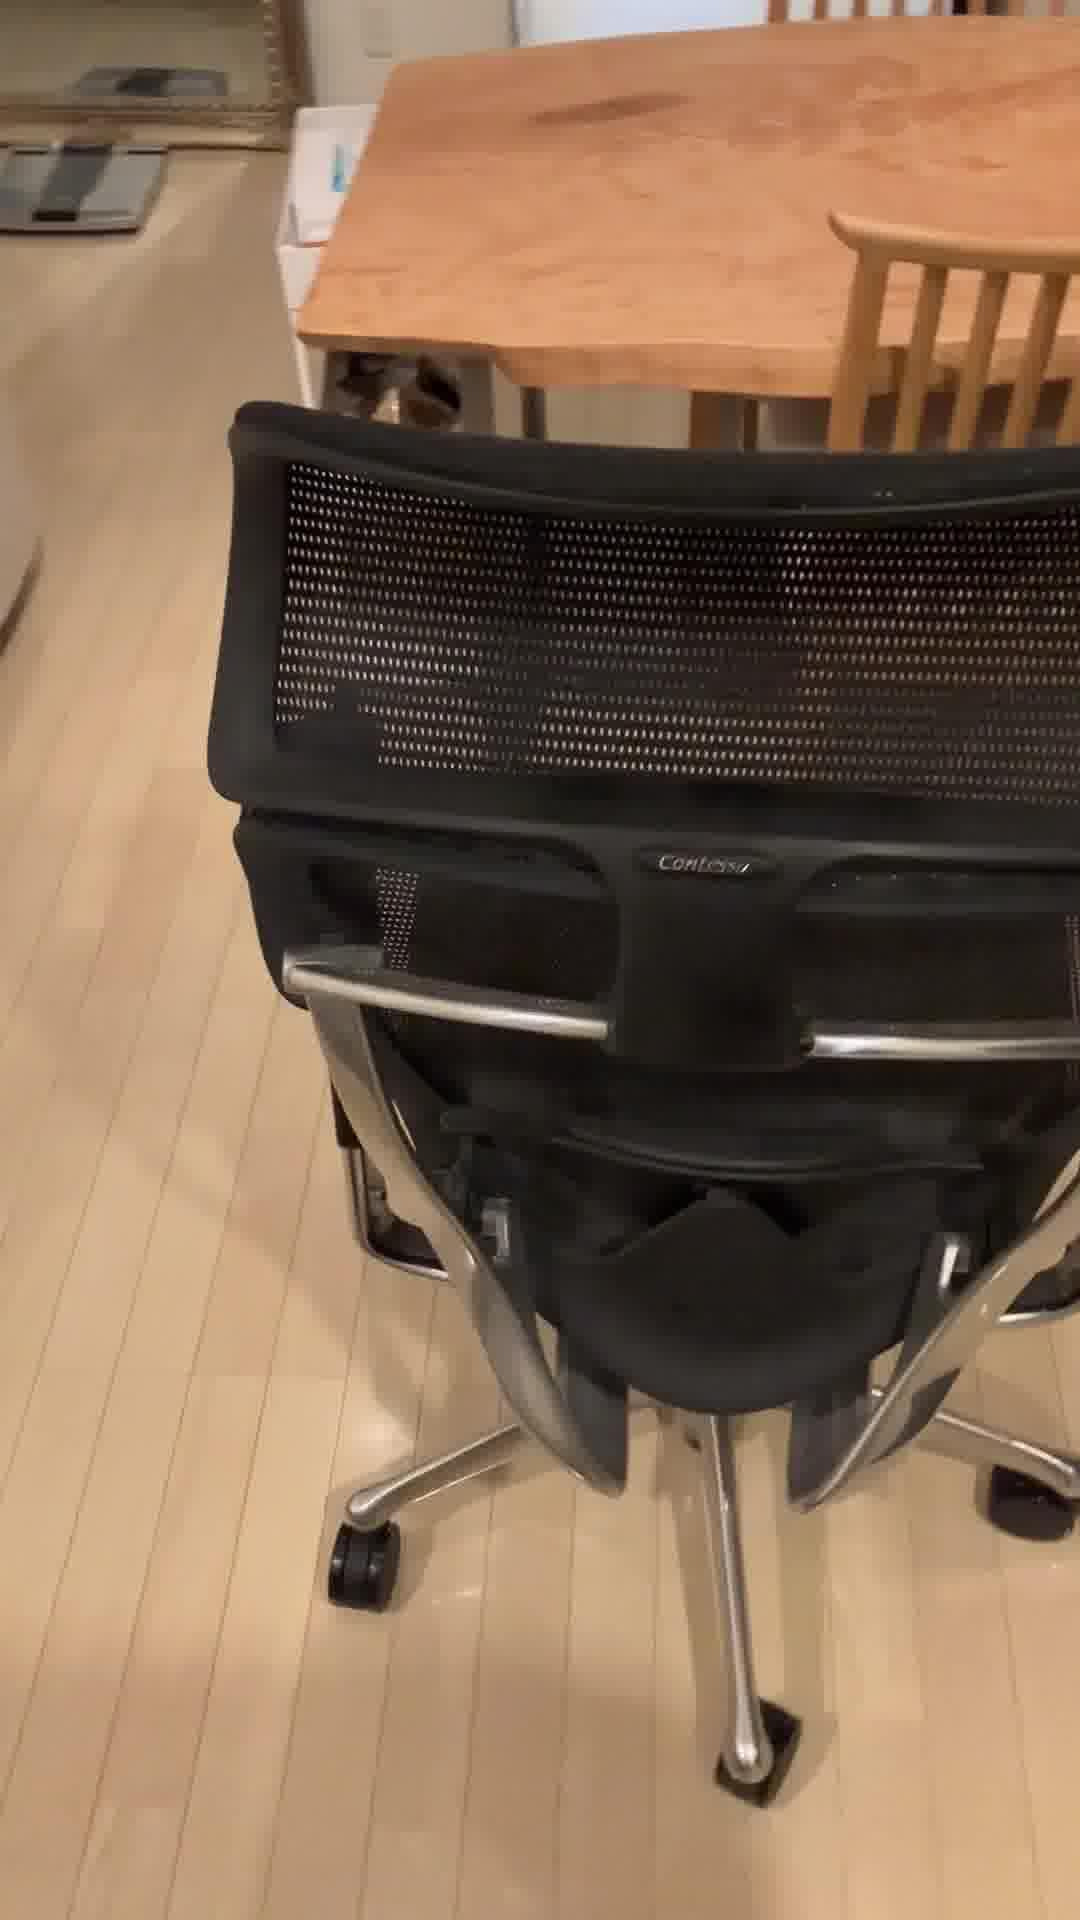okamura-contessa: (196, 390, 1080, 1809)
